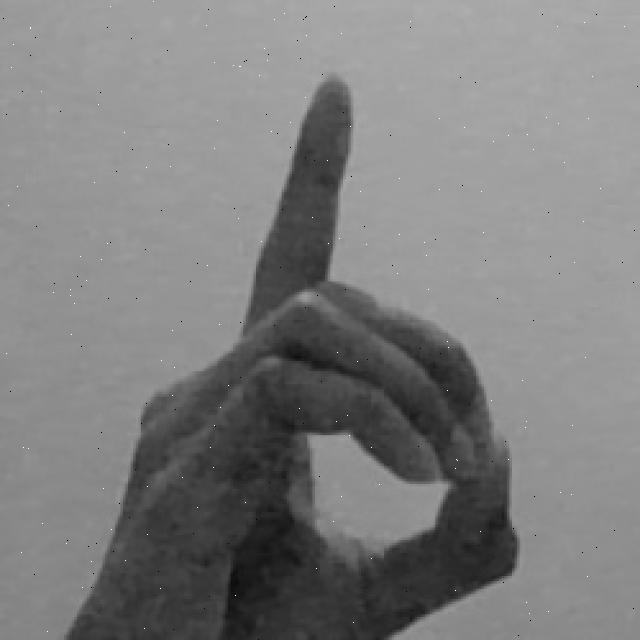D: (64, 66, 522, 640)
